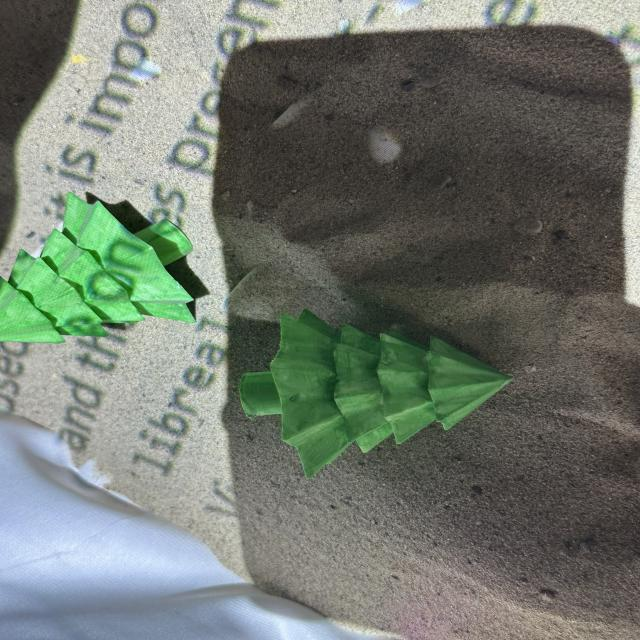tree: (236, 308, 514, 480), (0, 190, 196, 345)
